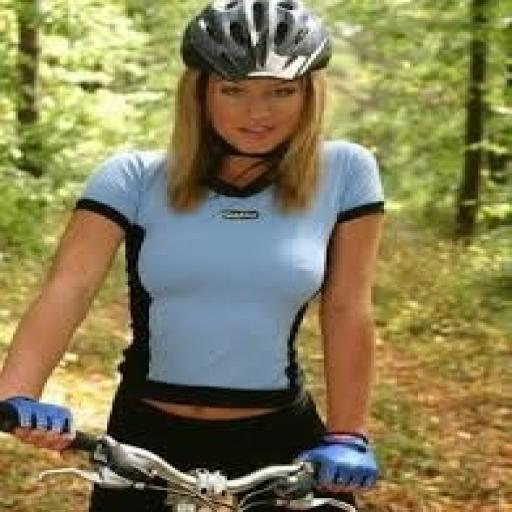cycling: (0, 0, 392, 510)
